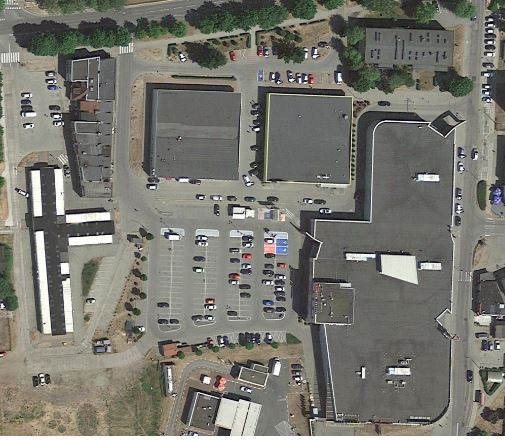block of flats: (293, 110, 463, 428), (257, 89, 357, 187), (147, 84, 244, 182), (62, 55, 117, 201), (356, 25, 458, 72)
garage: (22, 164, 76, 336), (67, 207, 119, 251)
